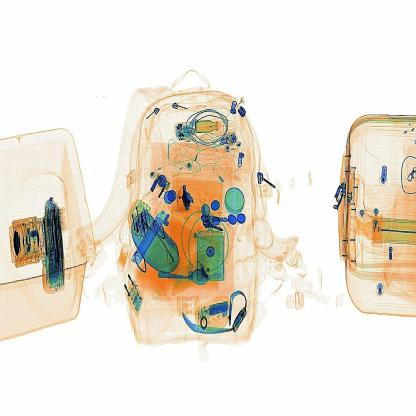wrench: (173, 180, 200, 220)
